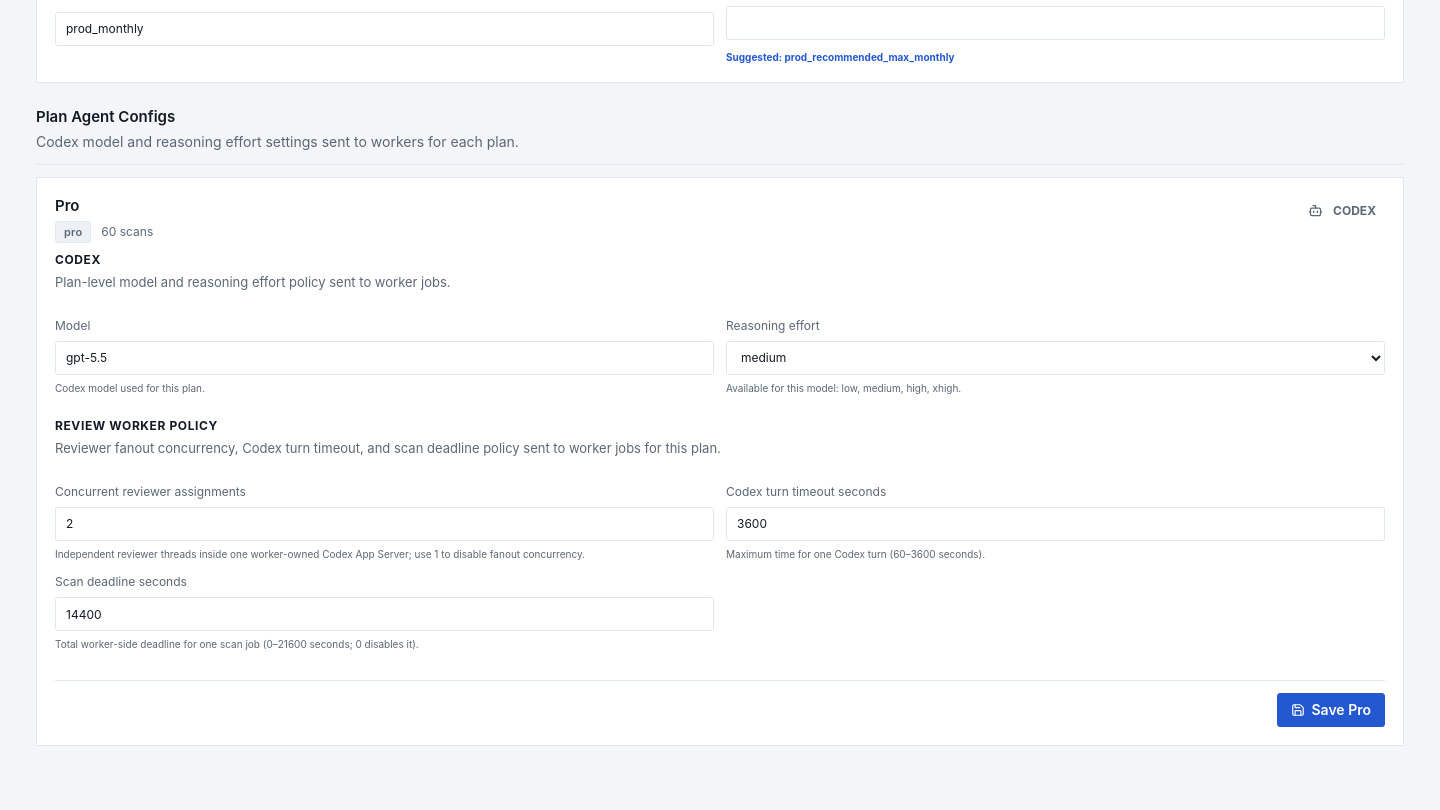
PlansScreen › blocks saving an invalid timeout in Pro Concurrent reviewer assignments
(page scrolled)
expect the heading "Pro" is shown: met, box [55,196,79,214]
Replace the text in the number field named "Pro Concurrent reviewer assignments" with "3" at [384, 524], box [55,506,714,540]
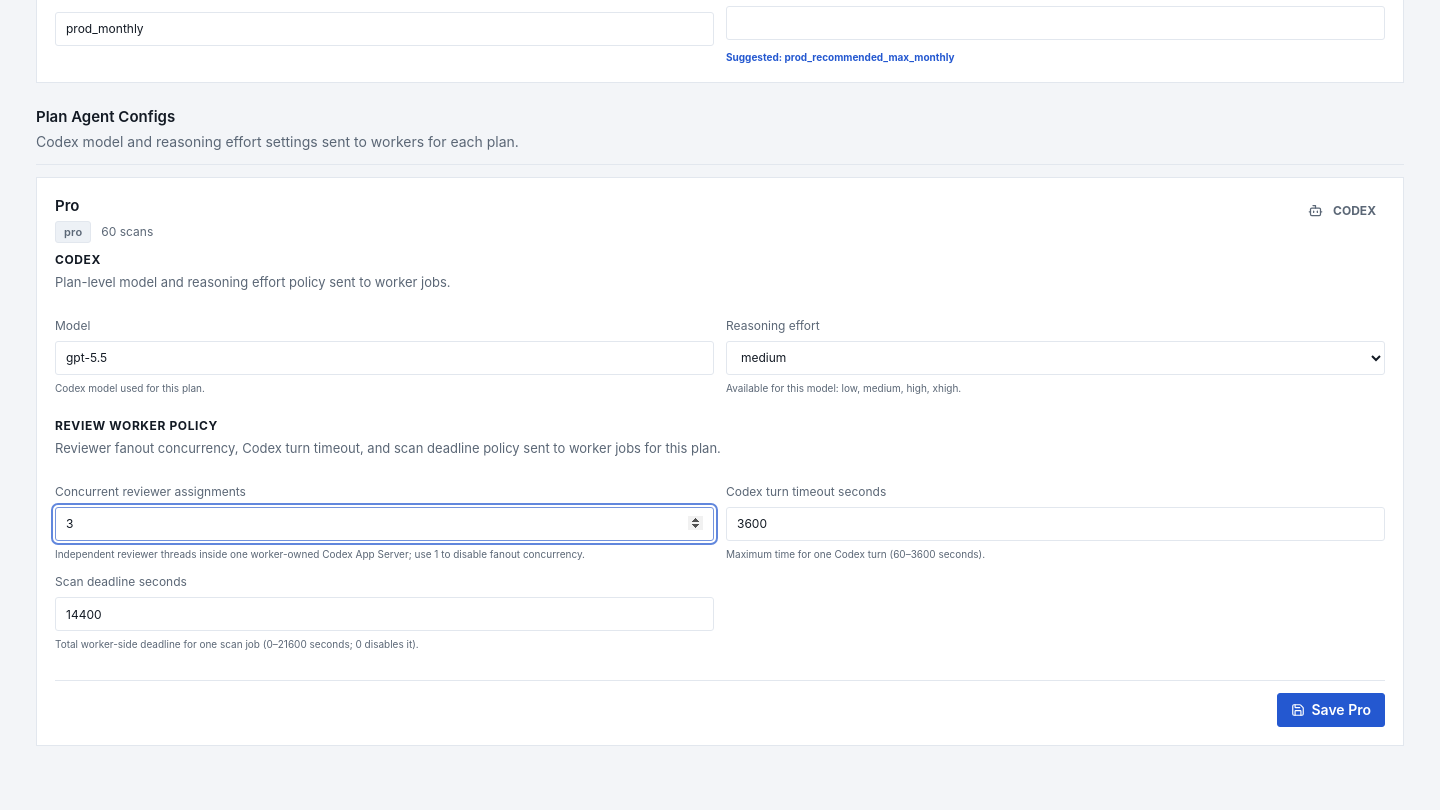
Click the button "Save Pro" at [1331, 710], box [1276,692,1385,726]
(page scrolled)
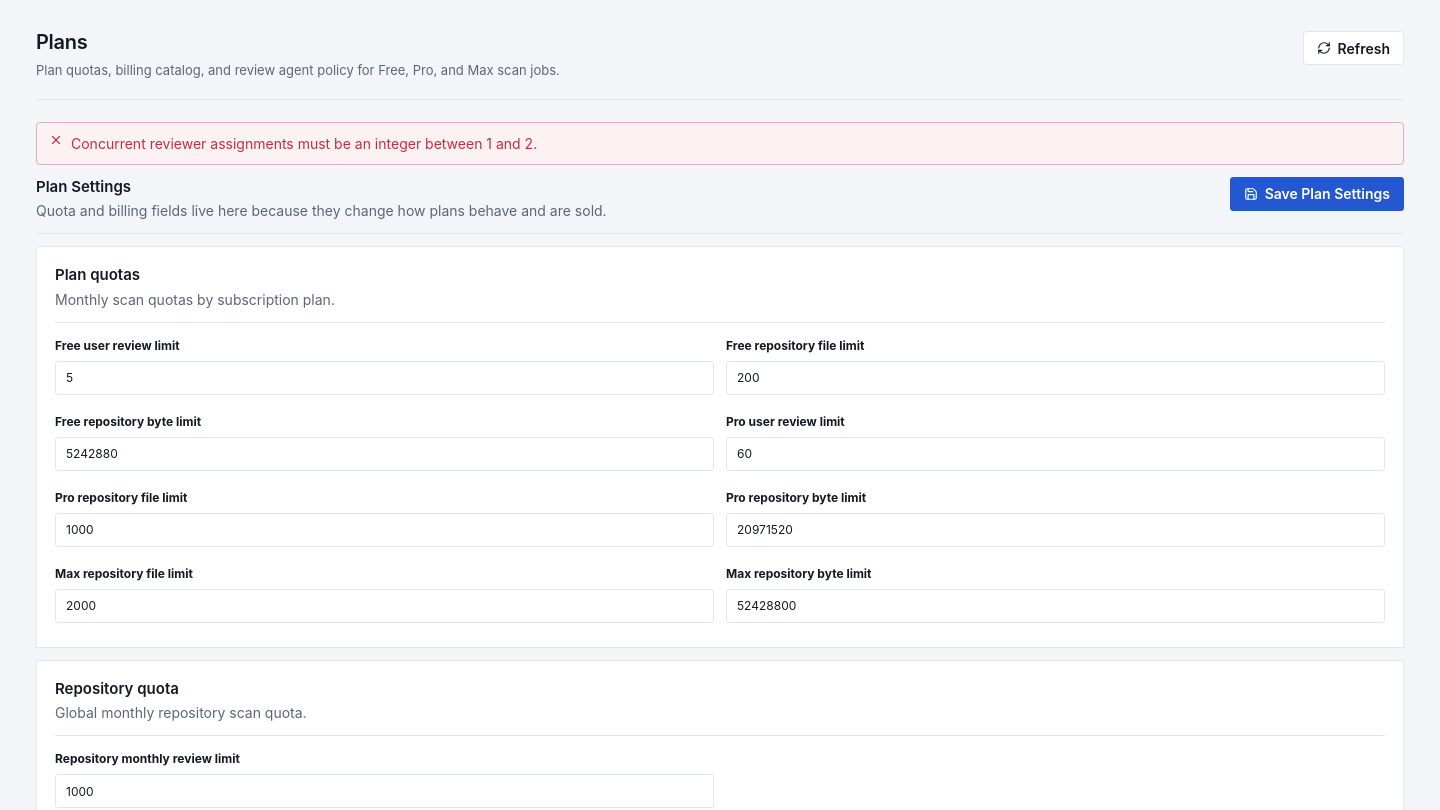
expect the message reads "Concurrent reviewer assignments must be an integer between 1 and 2.": met, box [71,134,537,152]
